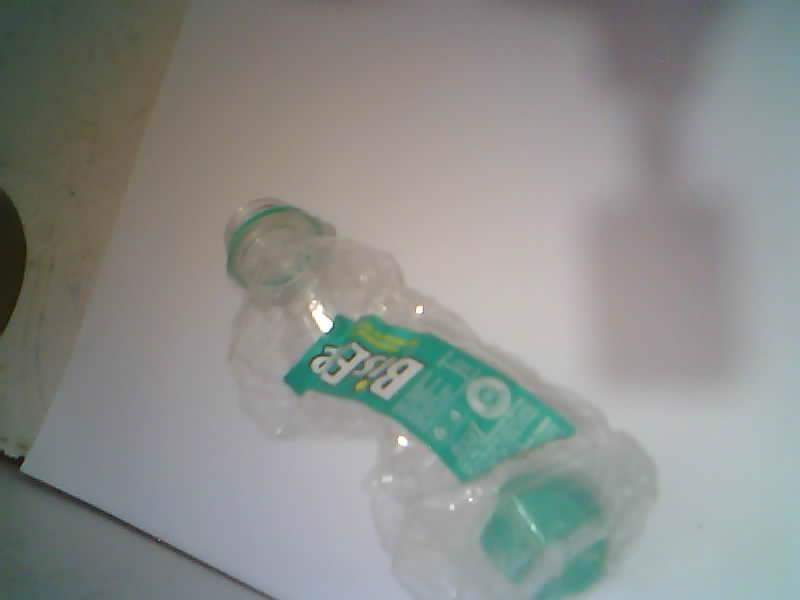non-biodegradable: (226, 206, 657, 599)
